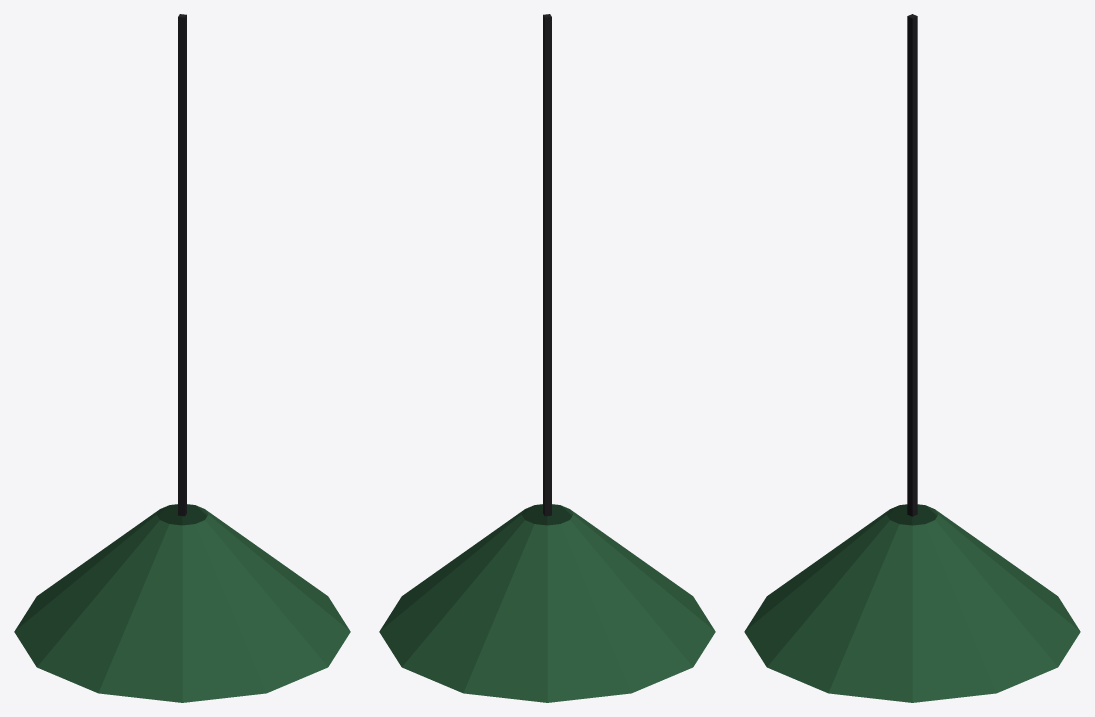
The model's file is hanging_lamp.glb.
3 renders of one model, left to right at view 1: azimuth 30°, elevation 25°; view 2: azimuth 150°, elevation 25°; view 3: azimuth 270°, elevation 25°, orthographic.
Parts seen in each view (by area): view 1: shade_int_shade, cord_int_cord; view 2: shade_int_shade, cord_int_cord; view 3: shade_int_shade, cord_int_cord.
Part boxes in pixels (x1,y1,x2,y2): shade_int_shade: [14, 504, 350, 702]; cord_int_cord: [178, 14, 186, 516]; shade_int_shade: [379, 504, 715, 702]; cord_int_cord: [543, 14, 551, 516]; shade_int_shade: [744, 504, 1080, 702]; cord_int_cord: [907, 14, 917, 516].
Bounding box in the file's own units: 0.52 × 1.06 × 0.52.
